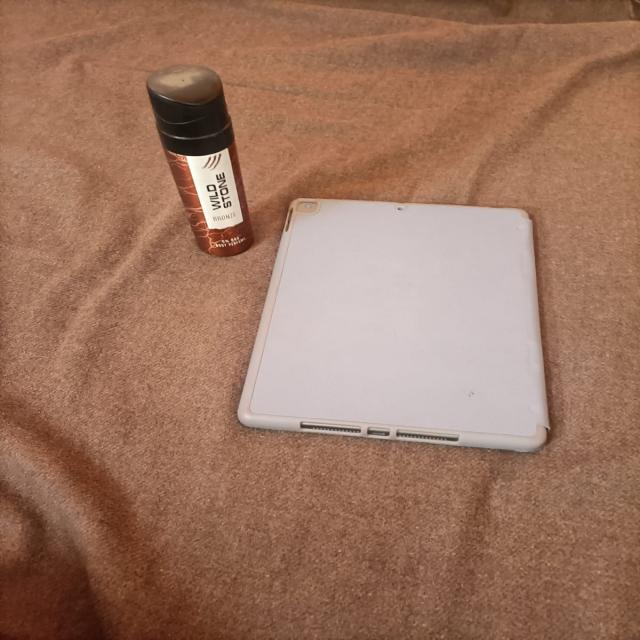spray: (127, 58, 261, 278)
tablet: (232, 197, 563, 471)
